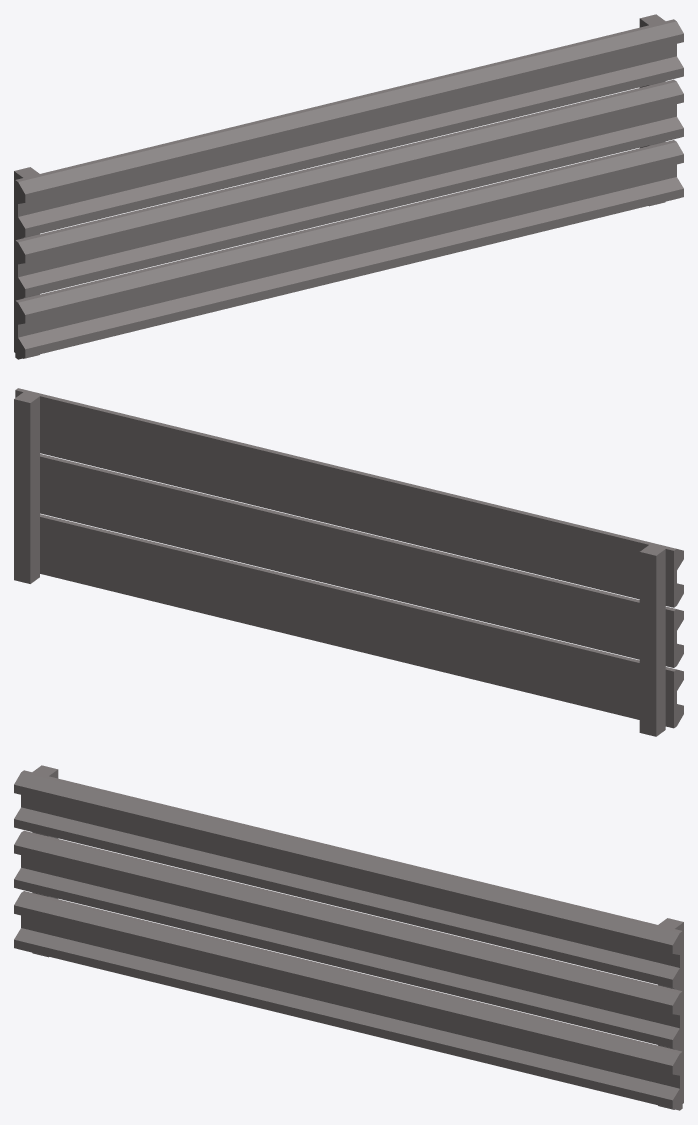
File: barrier-traffic.glb
3 renders of one model, top to bottom at view 1: azimuth 30°, elevation 25°; view 2: azimuth 150°, elevation 25°; view 3: azimuth 330°, elevation 25°, orthographic.
Visible parts, largest first — view 1: barrier-traffic; view 2: barrier-traffic; view 3: barrier-traffic.
Boxes of the visible parts, box(x1,y1,x2,y2) form: barrier-traffic: box(14, 14, 683, 359); barrier-traffic: box(14, 388, 683, 736); barrier-traffic: box(14, 765, 683, 1110).
Bounding box in the file's own units: 4 × 1.05 × 0.205.
1 material, 1 textured.
